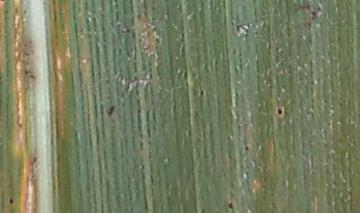tarspot: (105, 102, 119, 119), (275, 104, 285, 118), (5, 196, 15, 206), (241, 142, 251, 152), (226, 200, 235, 211), (198, 87, 207, 98)
